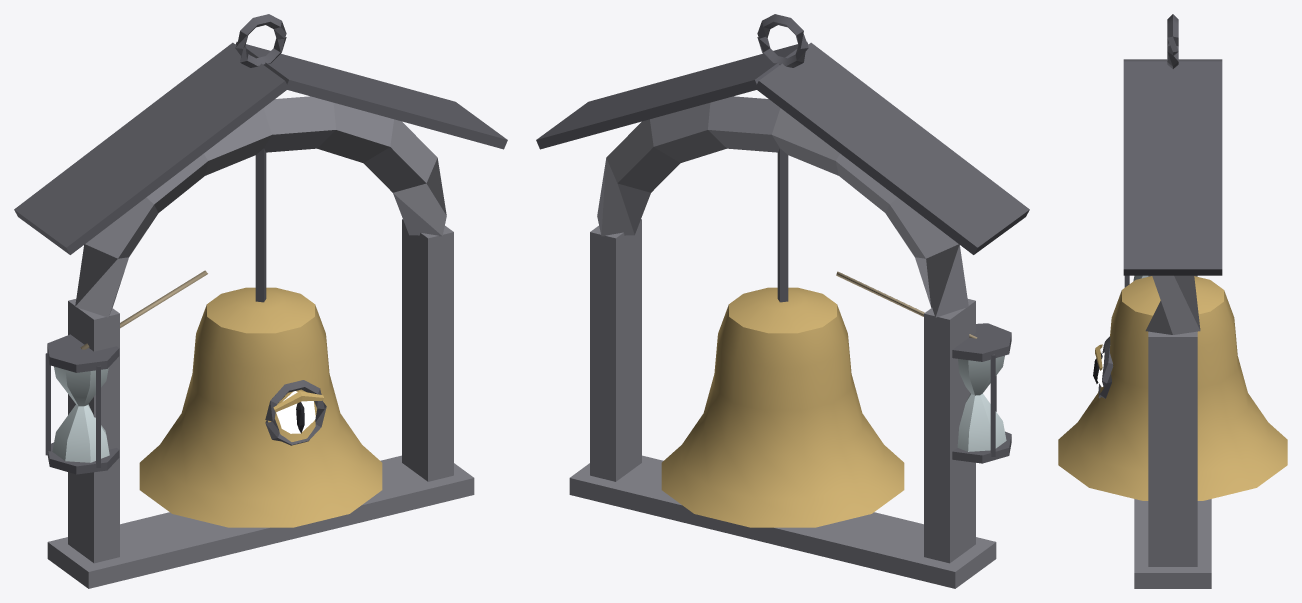
The model's file is bell-watch-bell.glb.
3 views of the same model, side by side, from view 1: azimuth 30°, elevation 25°; view 2: azimuth 150°, elevation 25°; view 3: azimuth 270°, elevation 25° (orthographic). The views are drawn at different scales.
Parts seen in each view (by area): view 1: bell_watch_bell; view 2: bell_watch_bell; view 3: bell_watch_bell.
Boxes of the visible parts, <box> form: bell_watch_bell: <box>14,14,507,588</box>; bell_watch_bell: <box>536,14,1029,588</box>; bell_watch_bell: <box>1058,14,1287,588</box>.
Size of the model in its own units: 0.7211 by 0.7972 by 0.343.
